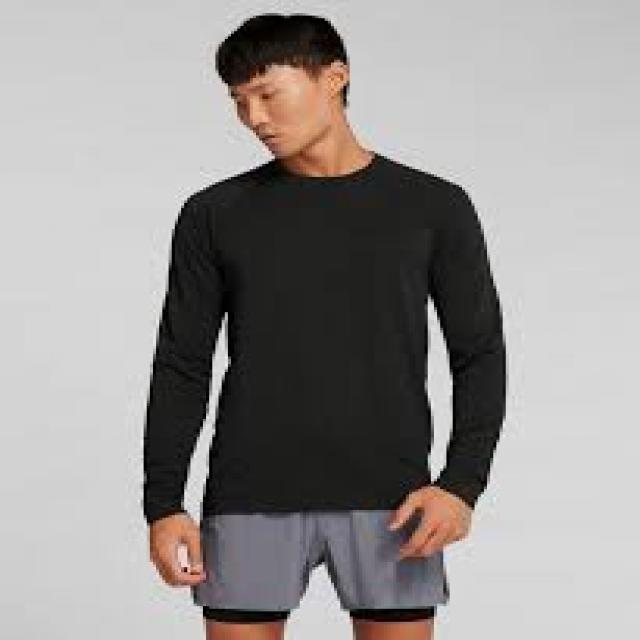plain: (146, 166, 516, 513)
